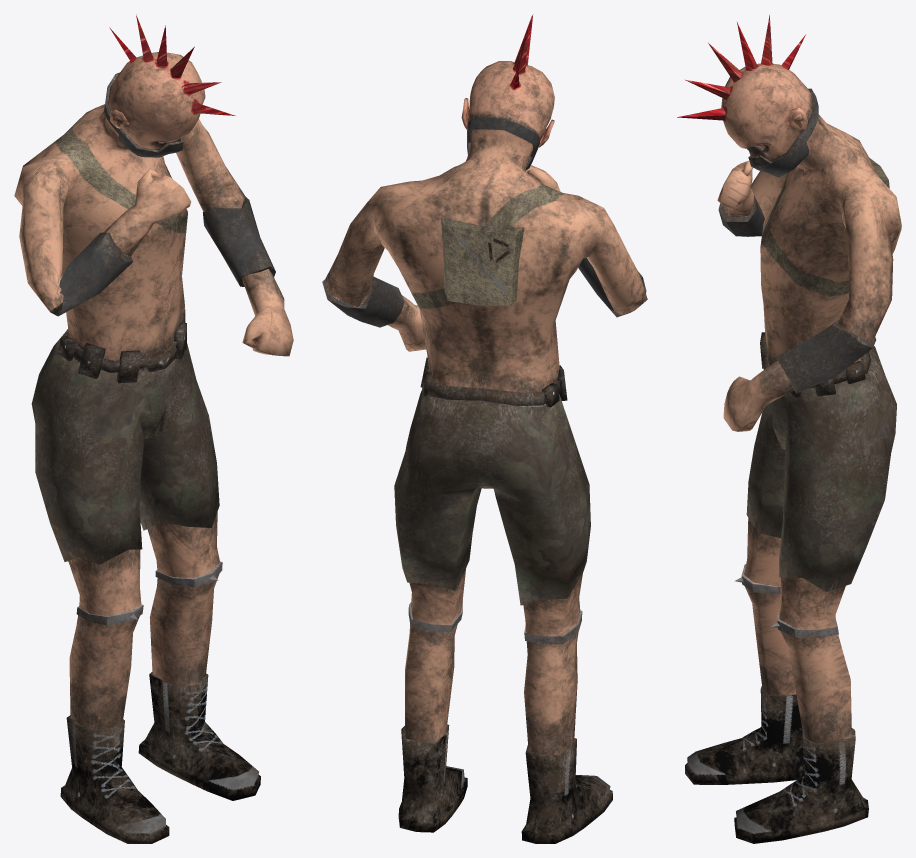
Rendered from Anim_perder_1_npc2.0042.obj.
3 views of the same model, side by side, from view 1: azimuth 30°, elevation 25°; view 2: azimuth 150°, elevation 25°; view 3: azimuth 270°, elevation 25° (orthographic). The views are drawn at different scales.
Parts seen in each view (by area): view 1: polySurface1; view 2: polySurface1; view 3: polySurface1.
Boxes of the visible parts, x1,y1,x2,y2 form: polySurface1: (14, 14, 293, 843); polySurface1: (322, 14, 647, 843); polySurface1: (677, 15, 901, 843).
Bounding box in the file's own units: 3.44 × 9.77 × 2.58.
